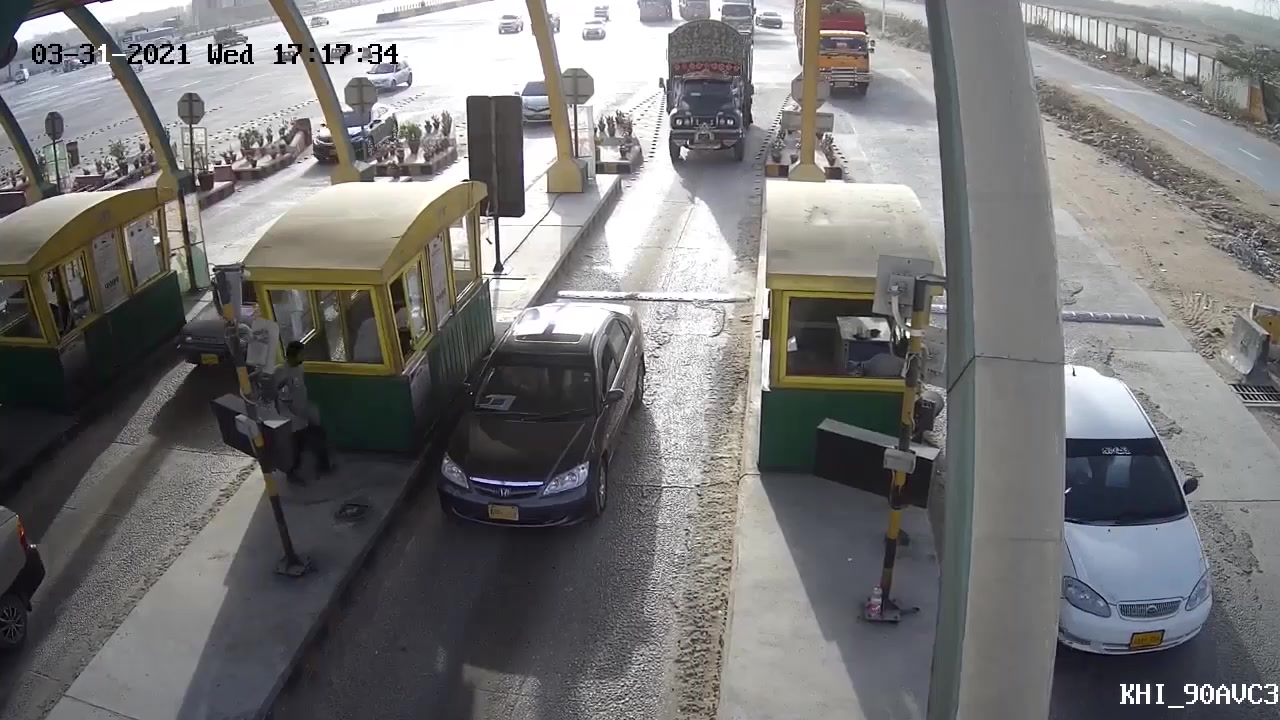F1: (437, 296, 647, 530)
F5: (658, 22, 760, 164)
